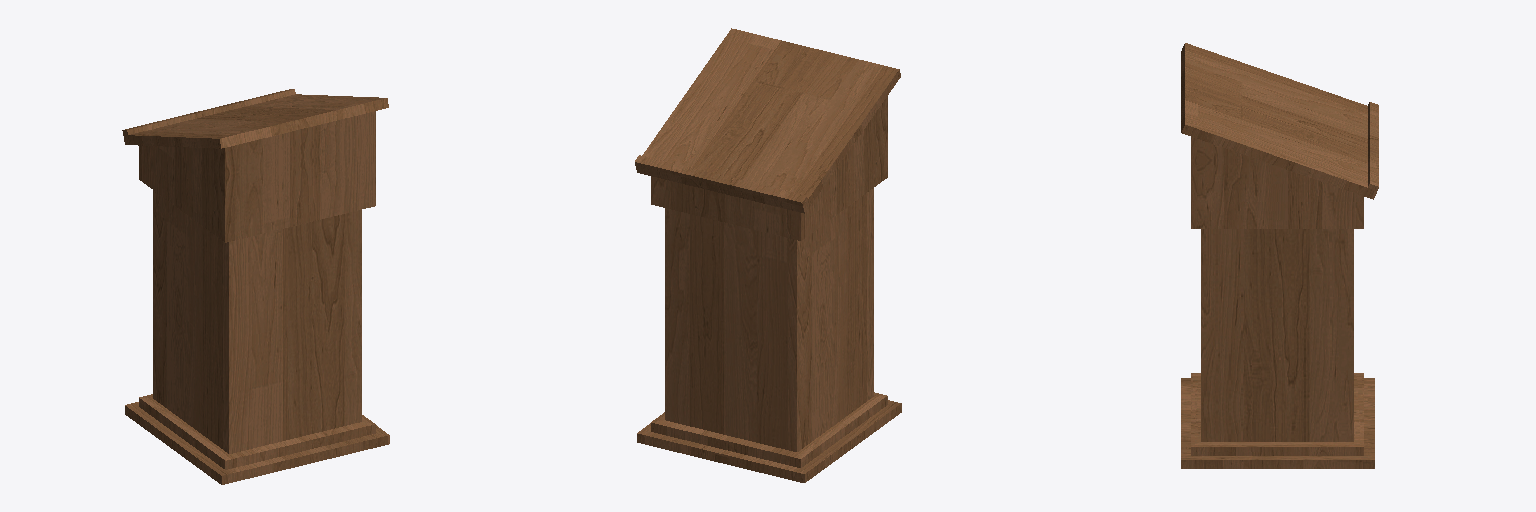
3 renders of one model, left to right at view 1: azimuth 30°, elevation 25°; view 2: azimuth 150°, elevation 25°; view 3: azimuth 270°, elevation 25°, orthographic.
Visible parts, largest first — view 1: Box001; view 2: Box001; view 3: Box001.
Boxes of the visible parts, <box> form: Box001: <box>122,89,389,484</box>; Box001: <box>635,28,901,482</box>; Box001: <box>1181,43,1378,468</box>.
Size of the model in its own units: 38 by 74.6 by 38.94.
Materials: 1 (1 with a texture image).